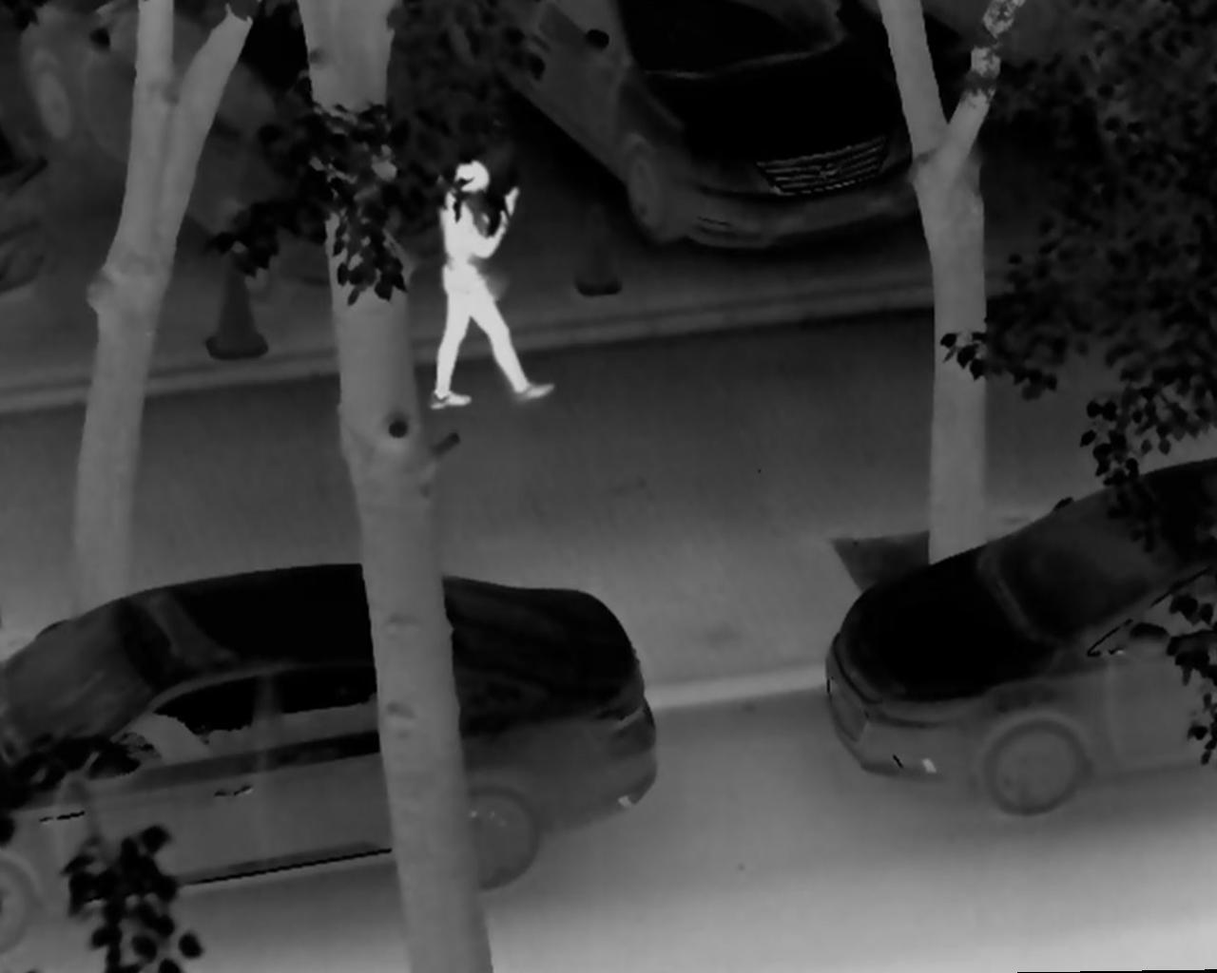person: (424, 161, 557, 412)
